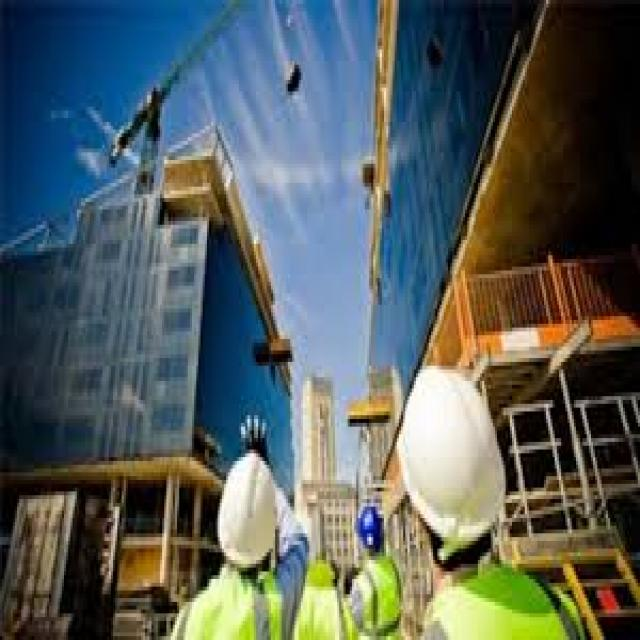Reflective-Jacket: (420, 560, 585, 640), (183, 571, 286, 640)
Safety-Helmet: (395, 358, 510, 552), (216, 446, 280, 571), (352, 503, 384, 552)
